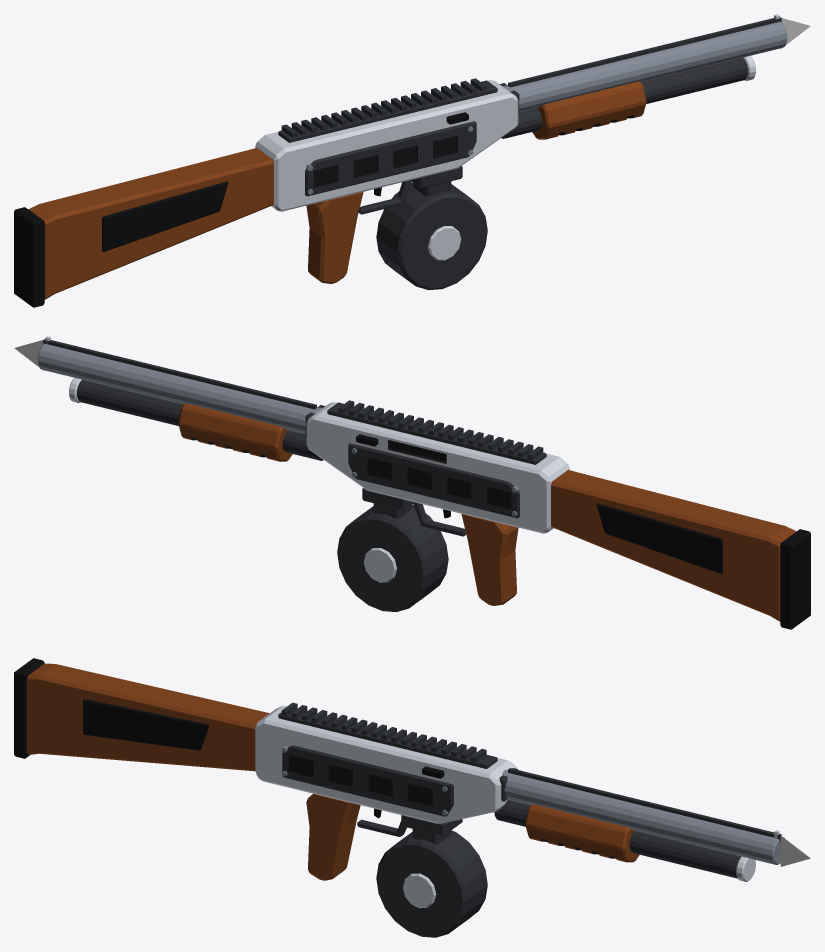
File: jackhammer42.obj
3 renders of one model, top to bottom at view 1: azimuth 30°, elevation 25°; view 2: azimuth 150°, elevation 25°; view 3: azimuth 330°, elevation 25°, orthographic.
Parts seen in each view (by area): view 1: body, barrel, mag, pump; view 2: body, barrel, mag, pump; view 3: body, barrel, mag, pump, muzzle_0.
Part boxes in pixels (x1,y1,x2,y2): body: (14,78,519,307); barrel: (501,14,787,138); mag: (376,181,487,290); pump: (532,81,646,139); body: (305,400,810,629); barrel: (37,336,323,460); mag: (337,503,448,612); pump: (178,403,292,461); body: (14,658,517,880); barrel: (494,768,784,881); mag: (376,829,487,937); pump: (525,804,639,862); muzzle_0: (780,835,810,866).
Size of the model in its own units: 0.8706 by 0.1975 by 0.054.
